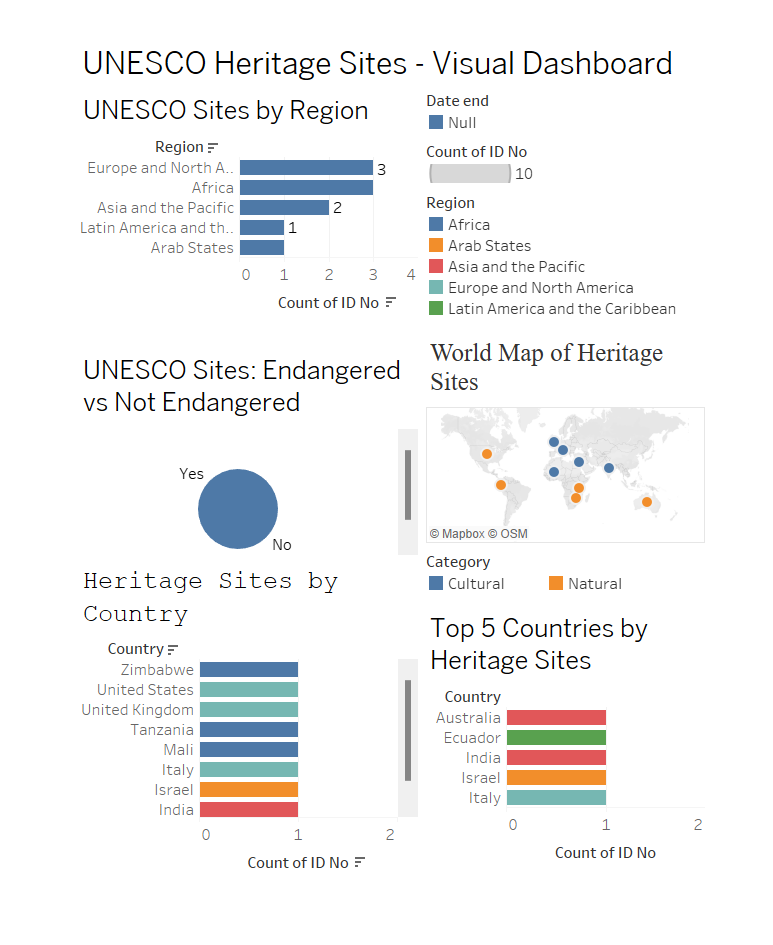

This screenshot's page, from the dashboard's own definition file:
{"tool":"tableau","page":{"name":"Dashboard 1","canvas":[650,860],"ordinal":0},"visuals":[{"type":"title","box":[8,8.6,634,49.3]},{"type":"worksheet","title":"Sheet 1","mark":"Automatic","rows":["Region"],"cols":["ID_No"],"box":[8,57.9,317,278.8]},{"type":"legend","title":"Sheet 2","param":"[federated.1c90ayu1maxi5c1117cug0e5948p].[none:Date_end:nk]","box":[325,57.9,317,54.7]},{"type":"legend","title":"Sheet 2","param":"[federated.1c90ayu1maxi5c1117cug0e5948p].[cnt:ID_No:qk]","box":[325,112.6,317,54.7]},{"type":"legend","title":"Sheet 3","param":"[federated.1c90ayu1maxi5c1117cug0e5948p].[none:Region:nk]","box":[325,167.3,317,119]},{"type":"worksheet","title":"Sheet 4","mark":"Automatic","box":[325,286.3,317,242.3]},{"type":"worksheet","title":"Sheet 2","mark":"Pie","box":[8,336.7,317,253.1]},{"type":"legend","title":"Sheet 4","param":"[federated.1c90ayu1maxi5c1117cug0e5948p].[none:Category:nk]","box":[325,528.7,317,61.1]},{"type":"worksheet","title":"Sheet 3","mark":"Automatic","rows":["Country"],"cols":["ID_No"],"box":[8,589.8,317,261.6]},{"type":"worksheet","title":"Sheet 5","mark":"Automatic","rows":["Country"],"cols":["ID_No"],"box":[325,589.8,317,261.6]}]}

Visuals, with their boxes on the page's 650x860 design canvas (x1, y1, x2, y2). These are canvas units, not pixel positions in the 773x945 screenshot, which may show the page scaled, cropped or inside an application window:
title: box=[8, 9, 642, 58]
"Sheet 1" worksheet: box=[8, 58, 325, 337]
"Sheet 2" legend: box=[325, 58, 642, 113]
"Sheet 2" legend: box=[325, 113, 642, 167]
"Sheet 3" legend: box=[325, 167, 642, 286]
"Sheet 4" worksheet: box=[325, 286, 642, 529]
"Sheet 2" worksheet (Pie marks): box=[8, 337, 325, 590]
"Sheet 4" legend: box=[325, 529, 642, 590]
"Sheet 3" worksheet: box=[8, 590, 325, 851]
"Sheet 5" worksheet: box=[325, 590, 642, 851]
